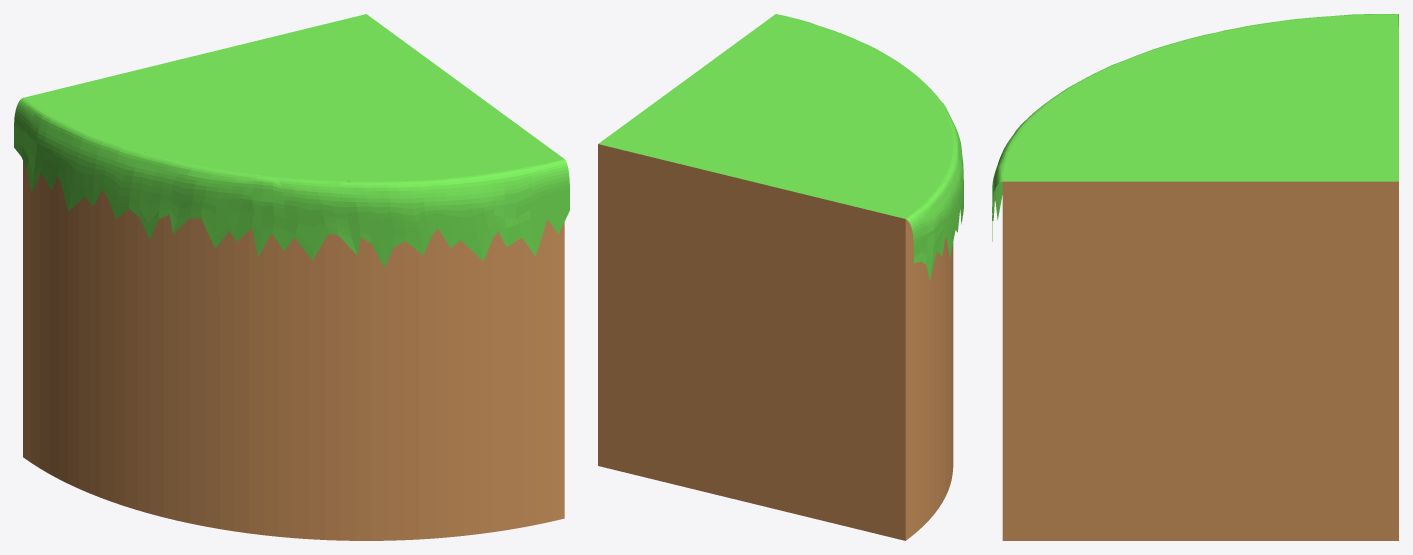
File: Cake_1.3.glb
3 renders of one model, left to right at view 1: azimuth 30°, elevation 25°; view 2: azimuth 150°, elevation 25°; view 3: azimuth 270°, elevation 25°, orthographic. The views are drawn at different scales.
Visible parts, largest first — view 1: Cylinder.001, Grass; view 2: Cylinder.001, Grass; view 3: Cylinder.001, Grass.
Boxes of the visible parts, <box> form: Cylinder.001: <box>23,14,564,540</box>; Grass: <box>14,98,569,267</box>; Cylinder.001: <box>598,14,953,540</box>; Grass: <box>776,14,963,280</box>; Cylinder.001: <box>1002,14,1398,540</box>; Grass: <box>992,14,1398,241</box>.
Size of the model in its own units: 1.03 by 1 by 1.03.
